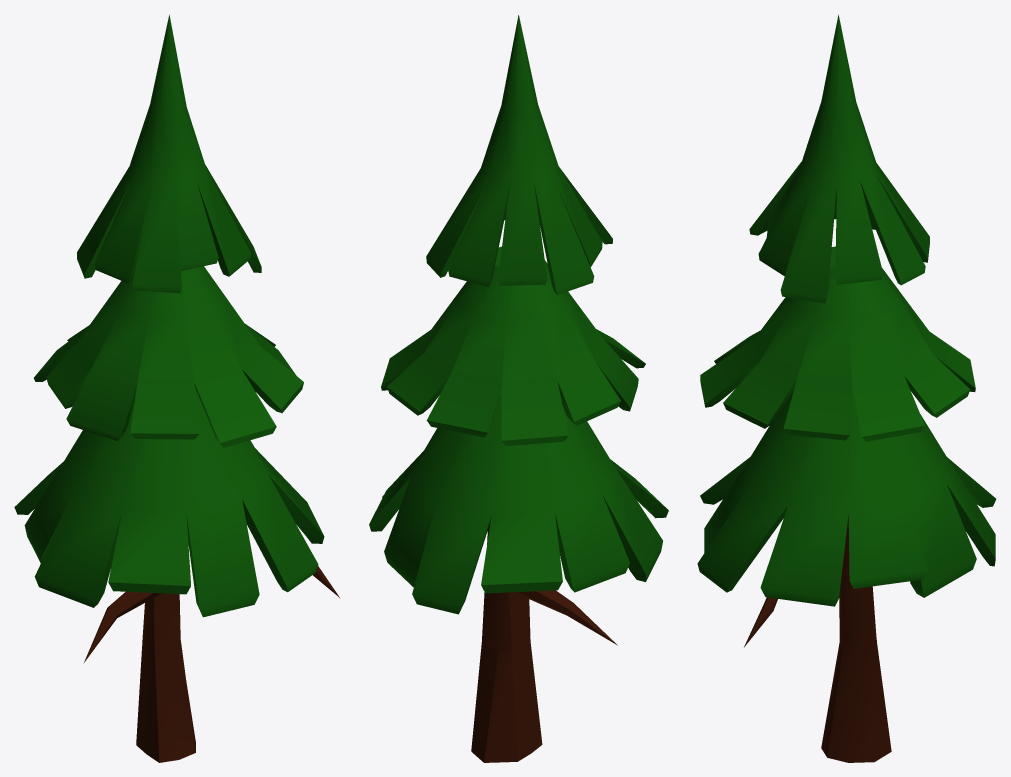
Rendered from TreeFir2.obj.
The picture shows the model from 3 angles, left to right: view 1: azimuth 30°, elevation 25°; view 2: azimuth 150°, elevation 25°; view 3: azimuth 270°, elevation 25°; orthographic projection.
Visible parts, largest first — view 1: Tree_Fir_2; view 2: Tree_Fir_2; view 3: Tree_Fir_2.
Part boxes in pixels (box(x1,y1,x2,y2)): Tree_Fir_2: box(14, 14, 340, 762); Tree_Fir_2: box(369, 15, 668, 762); Tree_Fir_2: box(697, 14, 996, 762).
Size of the model in its own units: 0.1152 by 0.3019 by 0.1115.
